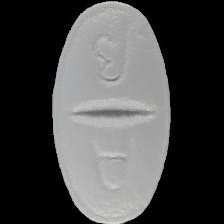49884-825: (0, 0, 224, 224)
